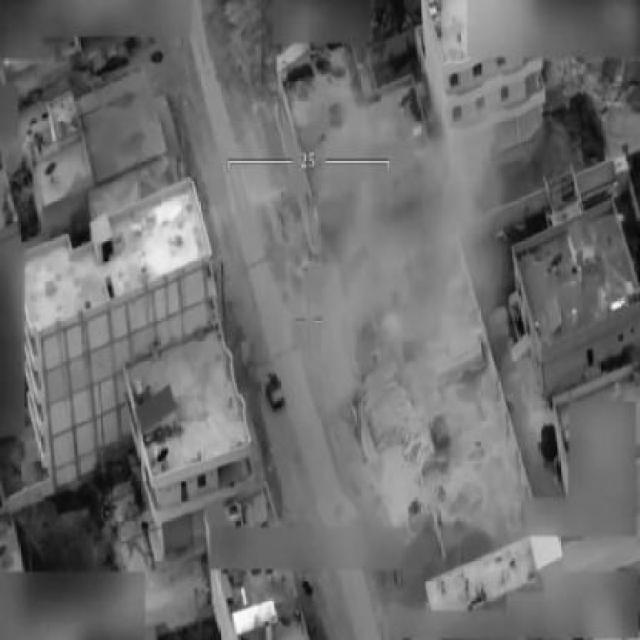Vehicle: (265, 373, 288, 412)
